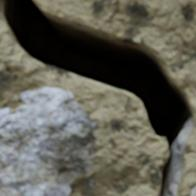brick: (0, 87, 99, 195), (87, 179, 96, 189), (191, 186, 195, 195)
crack: (0, 0, 194, 195)
